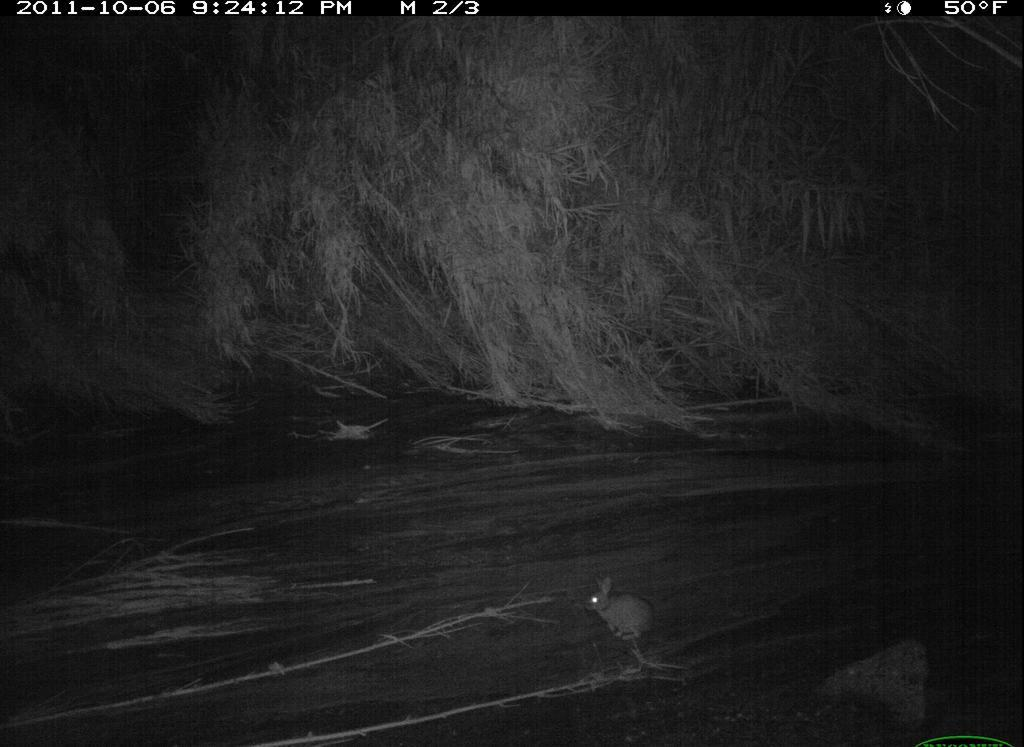rabbit: (582, 571, 658, 646)
